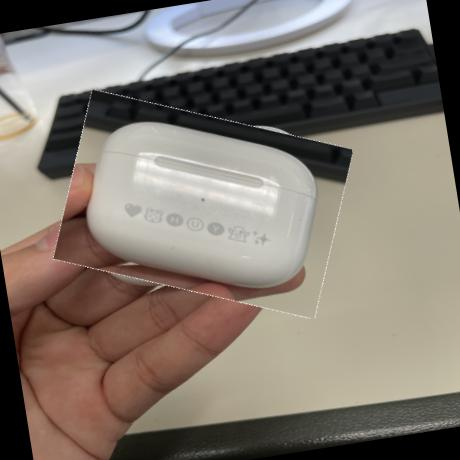airpod3: (43, 75, 364, 335)
